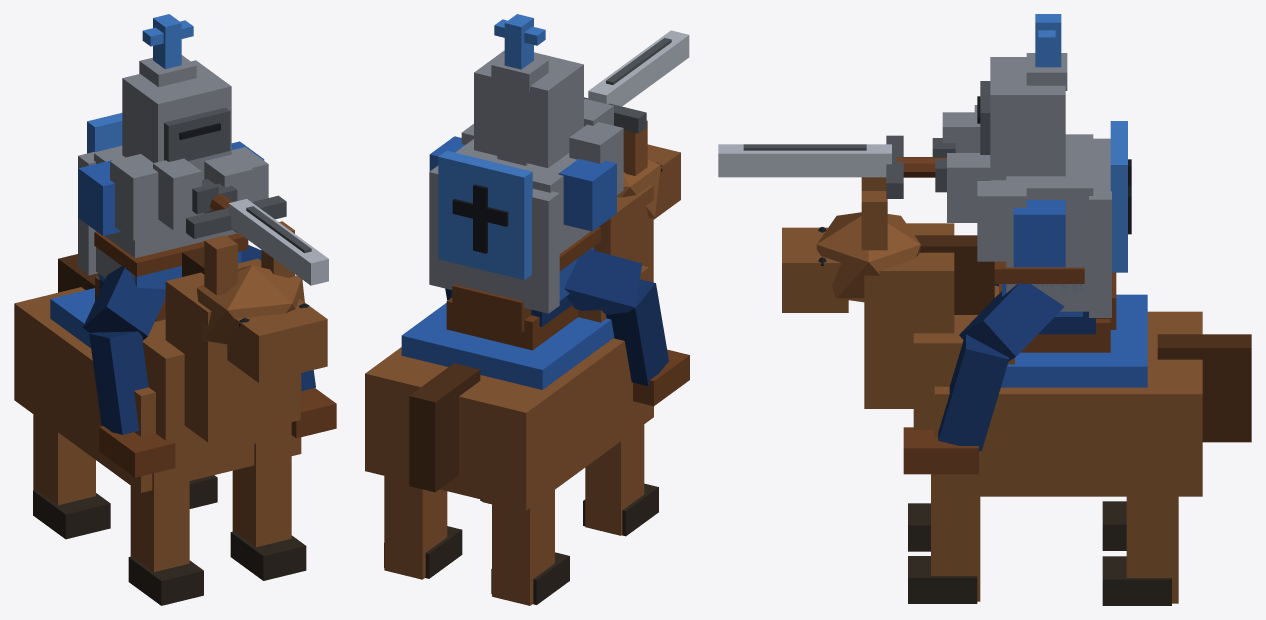
Rendered from arminius.glb.
3 views of the same model, side by side, from view 1: azimuth 30°, elevation 25°; view 2: azimuth 150°, elevation 25°; view 3: azimuth 270°, elevation 25° (orthographic). The views are drawn at different scales.
Parts seen in each view (by area): view 1: Cavallo_Corpo, Cavallo_Collo, Paladino_Elmo, Cavallo_Muso, Cavallo_Zampa_ADX, Cavallo_Garrese, Cavallo_Zampa_ASX, Paladino_Polpaccio_SX, Cavallo_Testa, Cavallo_Zampa_PSX, Paladino_Coscia_SX, Paladino_Braccio_SX (+28 smaller); view 2: Cavallo_Corpo, Paladino_Elmo, Scudo_Dorsale, Coperta_Sella, Paladino_Mantello, Cavallo_Coda, Cavallo_Zampa_PSX, Cavallo_Zampa_PDX, Cavallo_Zampa_ASX, Paladino_Coscia_SX, Paladino_Polpaccio_SX, Paladino_Spalla_SX (+24 smaller); view 3: Cavallo_Corpo, Cavallo_Collo, Paladino_Elmo, Coperta_Sella, Cavallo_Coda, Paladino_Corazza, Spadone_Lama, Paladino_Polpaccio_DX, Cavallo_Testa, Cavallo_Zampa_PDX, Cavallo_Muso, Paladino_Coscia_DX (+24 smaller).
Part boxes in pixels (left/top/right/bottom): Cavallo_Corpo: left=14, top=287, right=301, bottom=492; Cavallo_Collo: left=165, top=258, right=300, bottom=442; Paladino_Elmo: left=122, top=60, right=231, bottom=170; Cavallo_Muso: left=227, top=298, right=327, bottom=382; Cavallo_Zampa_ADX: left=232, top=435, right=291, bottom=547; Cavallo_Garrese: left=142, top=319, right=291, bottom=463; Cavallo_Zampa_ASX: left=130, top=460, right=189, bottom=571; Paladino_Polpaccio_SX: left=89, top=331, right=148, bottom=434; Cavallo_Testa: left=196, top=265, right=304, bottom=345; Cavallo_Zampa_PSX: left=33, top=414, right=95, bottom=505; Paladino_Coscia_SX: left=83, top=266, right=165, bottom=340; Paladino_Braccio_SX: left=110, top=154, right=164, bottom=240; Cavallo_Corpo: left=365, top=338, right=653, bottom=510; Paladino_Elmo: left=474, top=50, right=583, bottom=167; Scudo_Dorsale: left=438, top=150, right=532, bottom=279; Coperta_Sella: left=401, top=303, right=614, bottom=389; Paladino_Mantello: left=429, top=165, right=559, bottom=313; Cavallo_Coda: left=409, top=363, right=480, bottom=492; Cavallo_Zampa_PSX: left=492, top=490, right=554, bottom=605; Cavallo_Zampa_PDX: left=384, top=476, right=447, bottom=579; Cavallo_Zampa_ASX: left=585, top=424, right=644, bottom=535; Paladino_Coscia_SX: left=564, top=249, right=642, bottom=314; Paladino_Polpaccio_SX: left=606, top=279, right=668, bottom=386; Paladino_Spalla_SX: left=558, top=159, right=616, bottom=231; Cavallo_Corpo: left=934, top=311, right=1202, bottom=496; Cavallo_Collo: left=864, top=223, right=954, bottom=408; Paladino_Elmo: left=990, top=57, right=1065, bottom=176; Coperta_Sella: left=1001, top=294, right=1147, bottom=387; Cavallo_Coda: left=1157, top=334, right=1251, bottom=442; Paladino_Corazza: left=1006, top=134, right=1093, bottom=311; Spadone_Lama: left=718, top=144, right=891, bottom=177; Paladino_Polpaccio_DX: left=938, top=334, right=1009, bottom=451; Cavallo_Testa: left=816, top=212, right=920, bottom=302; Cavallo_Zampa_PDX: left=1126, top=496, right=1178, bottom=603; Cavallo_Muso: left=782, top=227, right=848, bottom=312; Paladino_Coscia_DX: left=959, top=283, right=1064, bottom=360.
Size of the model in its own units: 1.7 by 4.18 by 3.69.
